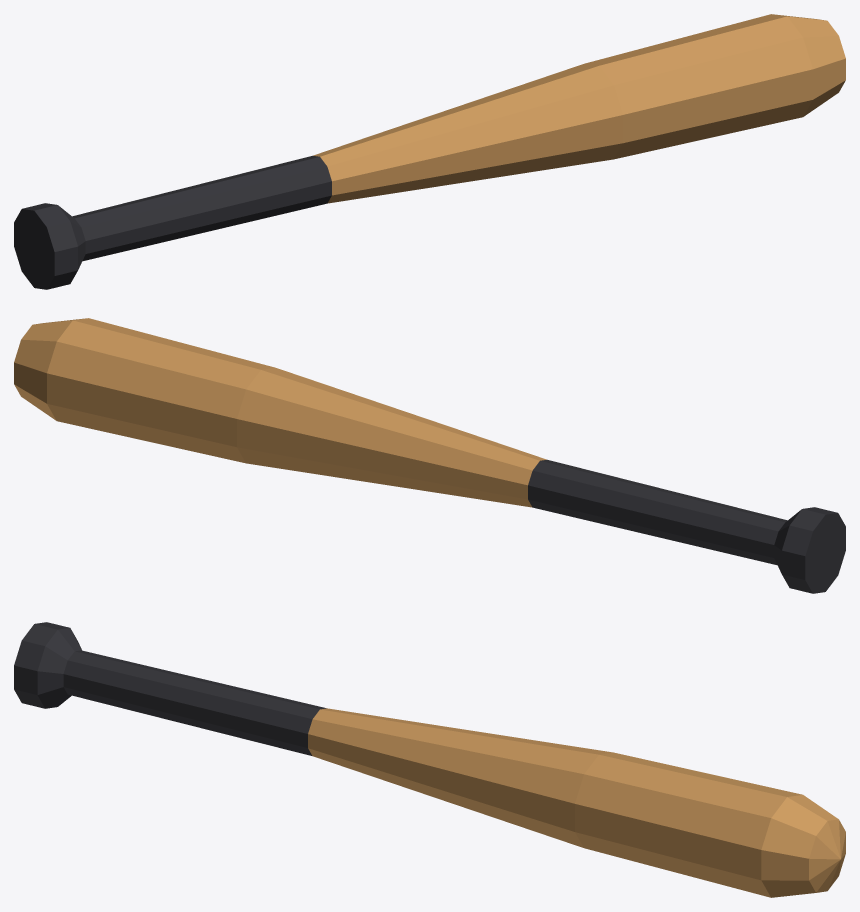
The model's file is bat.obj.
3 renders of one model, top to bottom at view 1: azimuth 30°, elevation 25°; view 2: azimuth 150°, elevation 25°; view 3: azimuth 330°, elevation 25°, orthographic.
Visible parts, largest first — view 1: bat_wood, bat_grip; view 2: bat_wood, bat_grip; view 3: bat_wood, bat_grip.
Part boxes in pixels (left/top/right/bottom): bat_wood: left=313, top=14, right=845, bottom=203; bat_grip: left=14, top=155, right=331, bottom=289; bat_wood: left=14, top=318, right=546, bottom=507; bat_grip: left=528, top=459, right=845, bottom=593; bat_wood: left=308, top=708, right=845, bottom=897; bat_grip: left=14, top=622, right=326, bottom=755.
Size of the model in its own units: 2.4 by 0.28 by 0.2662.
